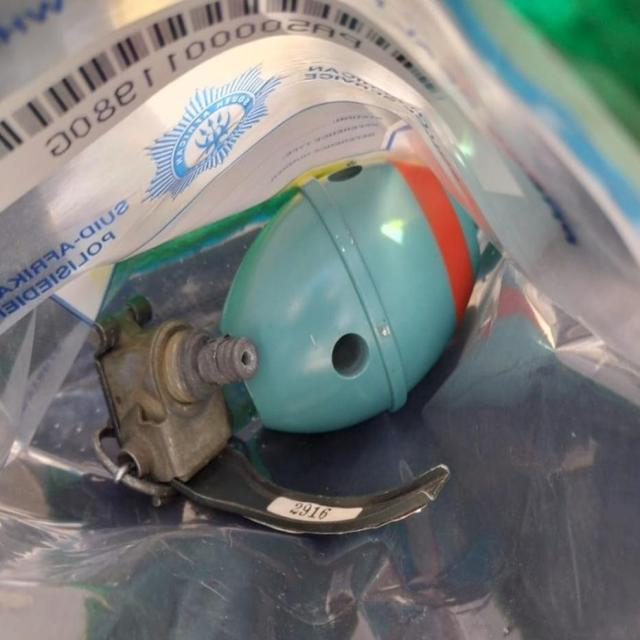grenade: (91, 161, 482, 540)
